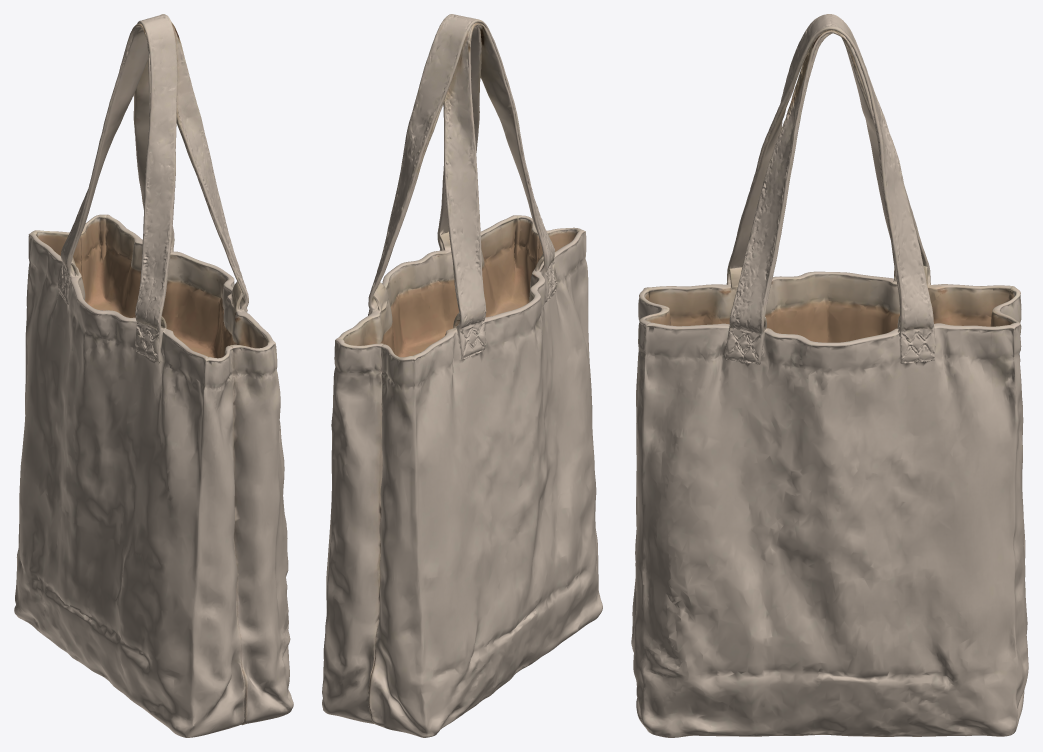
The model's file is TOTE-BAG.glb.
3 renders of one model, left to right at view 1: azimuth 30°, elevation 25°; view 2: azimuth 150°, elevation 25°; view 3: azimuth 270°, elevation 25°, orthographic. The views are drawn at different scales.
Visible parts, largest first — view 1: tripo_node_5d85271a-9509-41e2-a90c-3eddff8945fa; view 2: tripo_node_5d85271a-9509-41e2-a90c-3eddff8945fa; view 3: tripo_node_5d85271a-9509-41e2-a90c-3eddff8945fa.
Boxes of the visible parts, x1,y1,x2,y2 form: tripo_node_5d85271a-9509-41e2-a90c-3eddff8945fa: (14,14,293,737); tripo_node_5d85271a-9509-41e2-a90c-3eddff8945fa: (322,14,602,737); tripo_node_5d85271a-9509-41e2-a90c-3eddff8945fa: (631,14,1028,737).
Bounding box in the file's own units: 0.2423 × 0.98 × 0.5072.
1 material, 1 textured.
